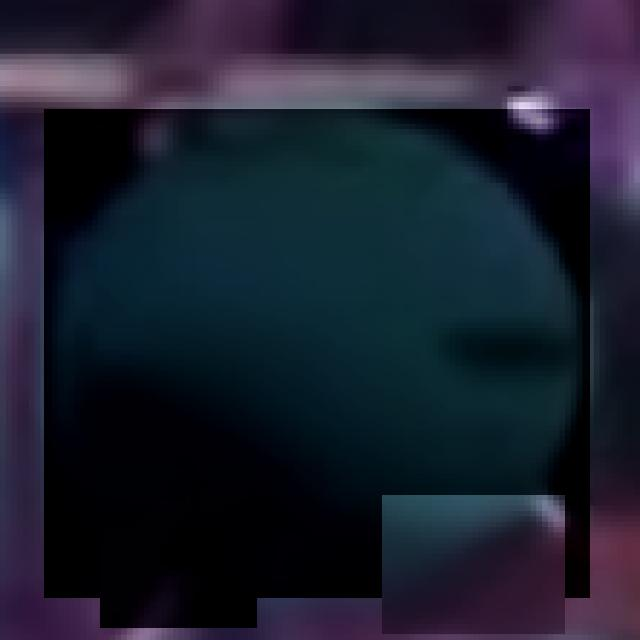Algae: (44, 109, 590, 598)
Reef: (382, 495, 565, 634), (100, 468, 257, 628)
